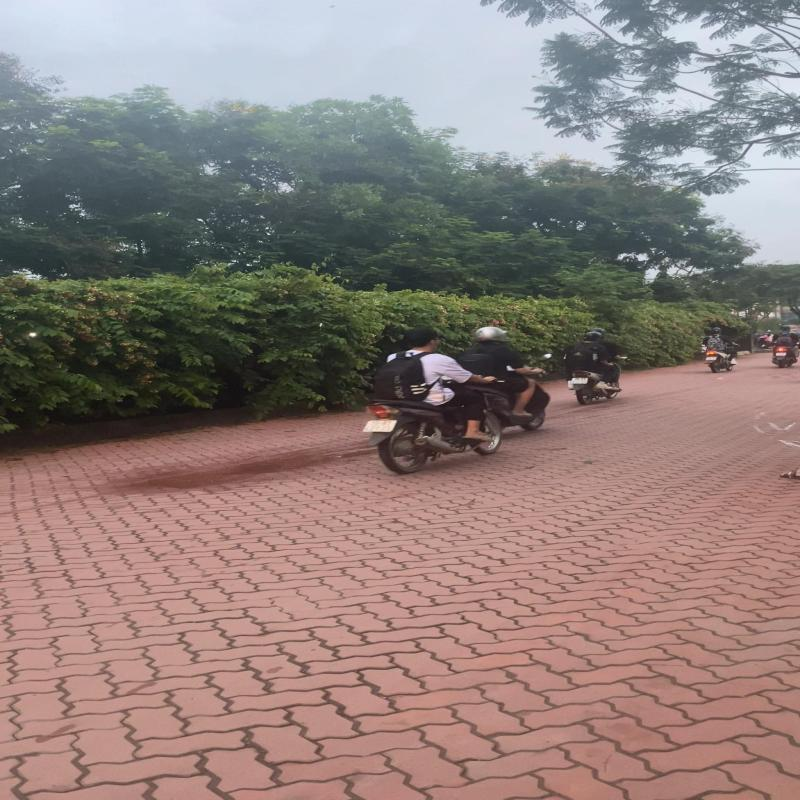licenseplate: (363, 420, 397, 432)
motorcyclist: (360, 326, 506, 474)
nohelmet: (403, 328, 439, 348)
